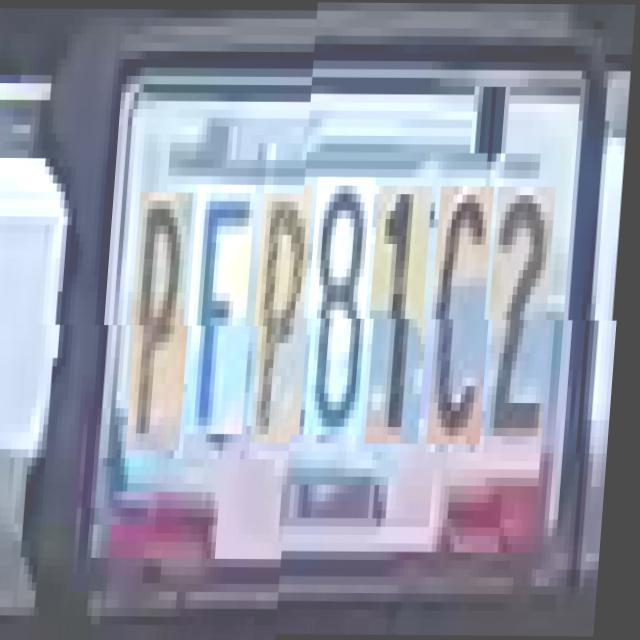1: (371, 194, 439, 452)
2: (490, 194, 562, 444)
8: (310, 185, 382, 442)
C: (433, 194, 501, 452)
F: (191, 184, 263, 434)
P: (133, 192, 201, 450), (257, 193, 320, 443)
